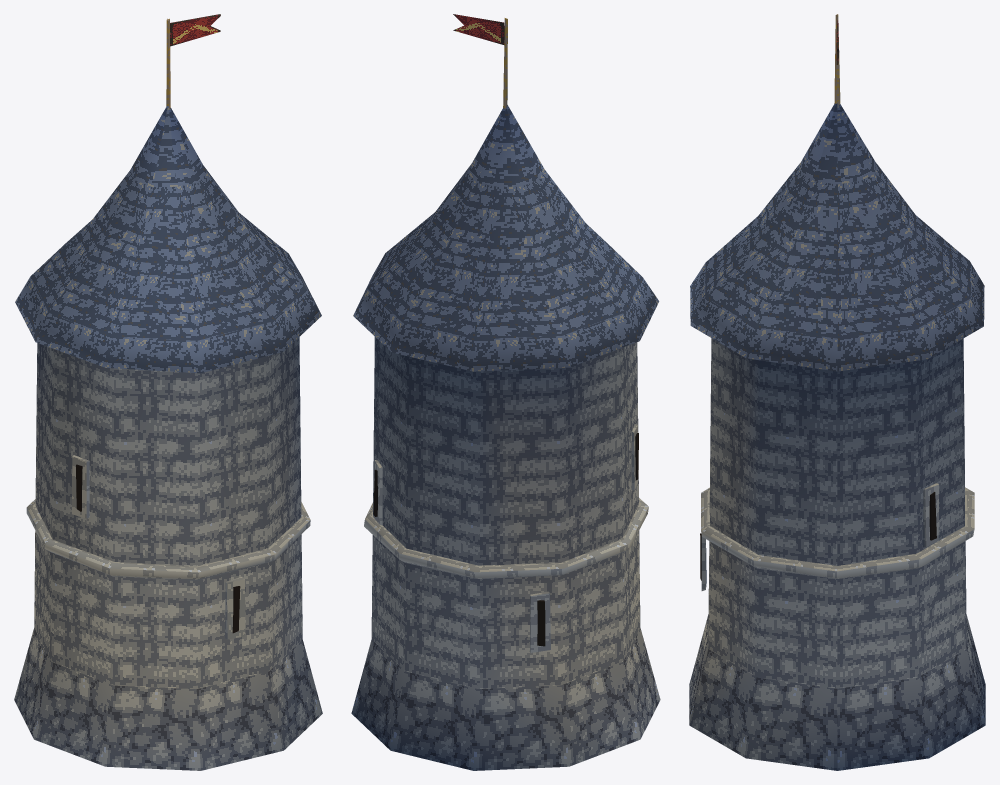
File: cst.tower_round__roofed.glb
3 views of the same model, side by side, from view 1: azimuth 30°, elevation 25°; view 2: azimuth 150°, elevation 25°; view 3: azimuth 270°, elevation 25° (orthographic).
Parts seen in each view (by area): view 1: kit_drum, kit_top, kit_detail; view 2: kit_drum, kit_top, kit_detail; view 3: kit_drum, kit_top, kit_detail.
Boxes of the visible parts, bbox=[...] form: kit_drum: bbox=[14, 337, 322, 770]; kit_top: bbox=[15, 106, 321, 373]; kit_detail: bbox=[26, 14, 310, 639]; kit_drum: bbox=[351, 337, 660, 770]; kit_top: bbox=[353, 105, 659, 371]; kit_detail: bbox=[364, 14, 648, 652]; kit_drum: bbox=[689, 338, 985, 770]; kit_top: bbox=[690, 103, 984, 371]; kit_detail: bbox=[700, 14, 974, 590].
Size of the model in its own units: 6.9 by 16.87 by 6.56.
7 materials, 7 textured.
